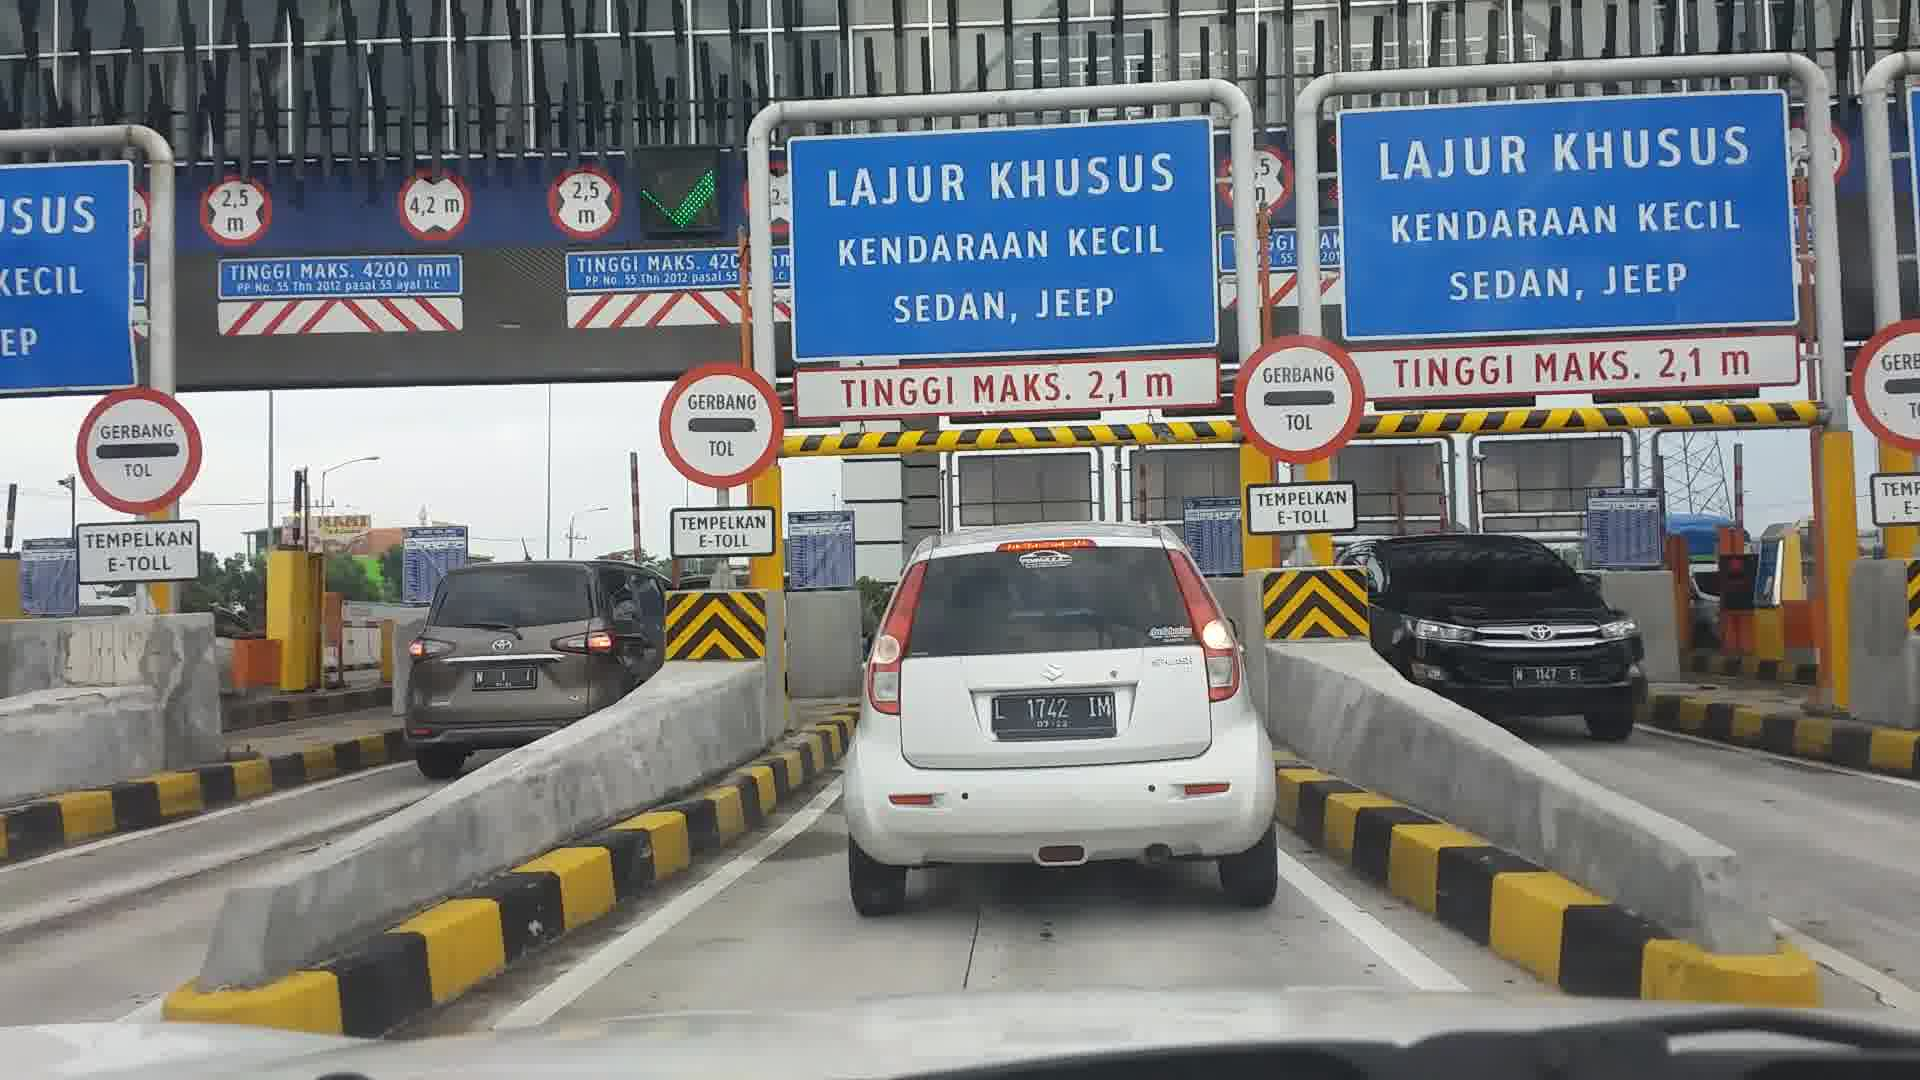plate_positive: (992, 695, 1117, 738), (472, 669, 534, 688)
